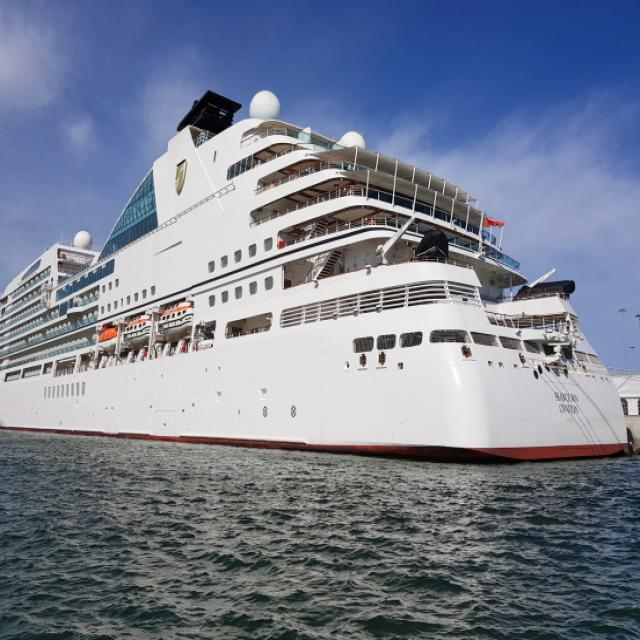cruises: (1, 84, 638, 464)
